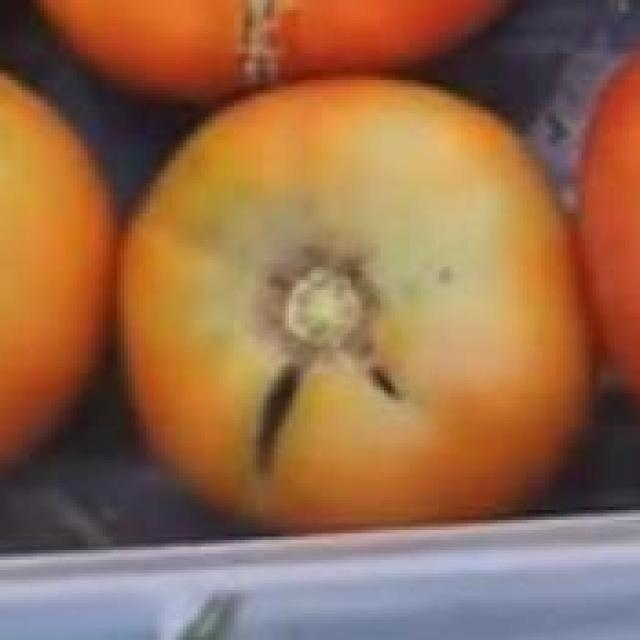Sunscald Fruit: (41, 24, 246, 280)
